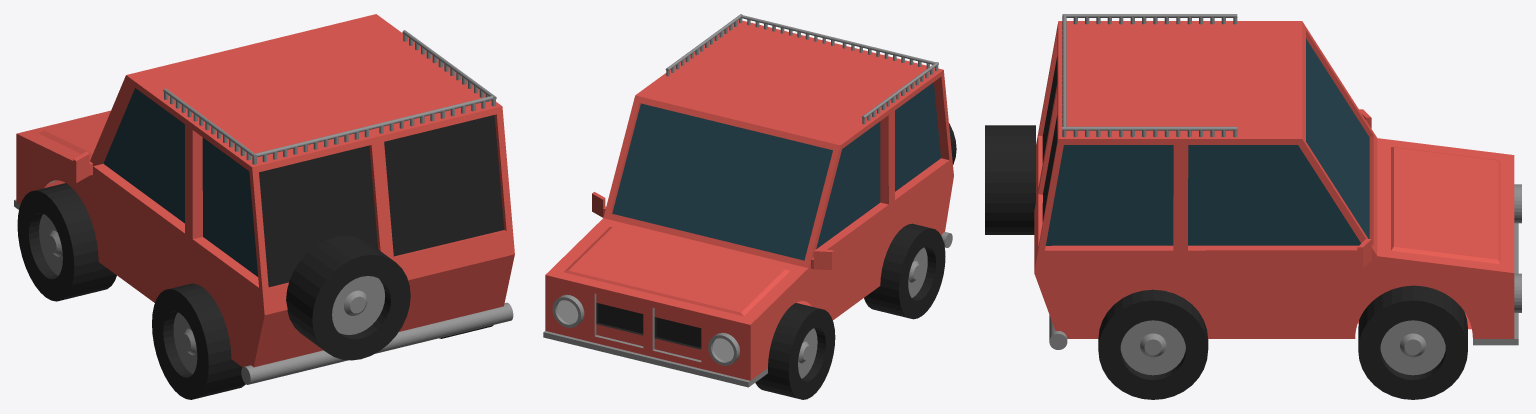
The model's file is Red Car.fbx.
The picture shows the model from 3 angles, left to right: view 1: azimuth 30°, elevation 25°; view 2: azimuth 150°, elevation 25°; view 3: azimuth 270°, elevation 25°; orthographic projection. The views are drawn at different scales.
Parts seen in each view (by area): view 1: Cube, Cylinder.004, Cylinder.003, Cylinder.001, Cube.001; view 2: Cube, Cylinder.003, Cylinder.001, Cylinder.002; view 3: Cube, Cylinder.003, Cylinder.001, Cylinder.004, Cylinder.002.
Part boxes in pixels (bbox=[...]): Cube: bbox=[14, 14, 514, 367]; Cylinder.004: bbox=[286, 235, 410, 360]; Cylinder.003: bbox=[17, 183, 116, 301]; Cylinder.001: bbox=[152, 283, 493, 399]; Cube.001: bbox=[241, 302, 513, 384]; Cube: bbox=[543, 14, 953, 387]; Cylinder.003: bbox=[755, 303, 835, 399]; Cylinder.001: bbox=[864, 223, 945, 319]; Cylinder.002: bbox=[552, 294, 739, 365]; Cube: bbox=[1034, 14, 1518, 345]; Cylinder.003: bbox=[1358, 285, 1467, 399]; Cylinder.001: bbox=[1098, 289, 1208, 399]; Cylinder.004: bbox=[985, 125, 1035, 234]; Cylinder.002: bbox=[1514, 184, 1521, 312].
Bounding box in the file's own units: 145 × 126 × 236.
